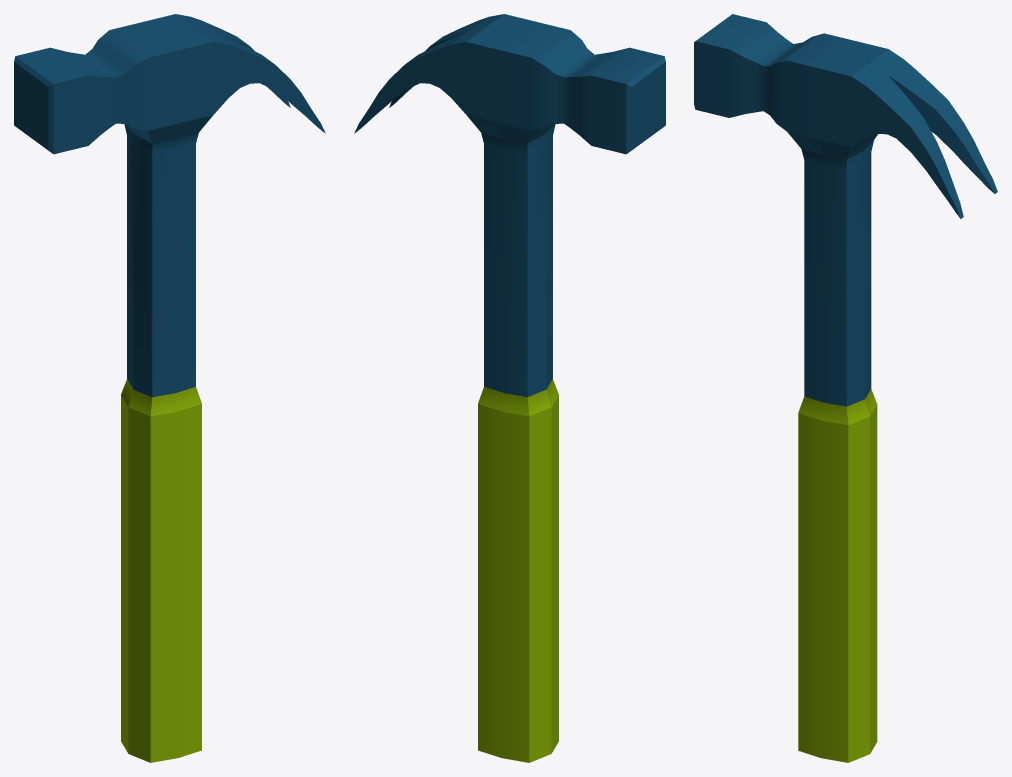
Rendered from TexturedHammer.obj.
The picture shows the model from 3 angles, left to right: view 1: azimuth 30°, elevation 25°; view 2: azimuth 150°, elevation 25°; view 3: azimuth 330°, elevation 25°; orthographic projection. The views are drawn at different scales.
Parts seen in each view (by area): view 1: HammerMesh; view 2: HammerMesh; view 3: HammerMesh.
Part boxes in pixels (x1=…): HammerMesh: x1=14, y1=14, x2=325, y2=762; HammerMesh: x1=354, y1=14, x2=665, y2=762; HammerMesh: x1=694, y1=14, x2=997, y2=762.
Bounding box in the file's own units: 3.43 × 8.43 × 0.8225.
